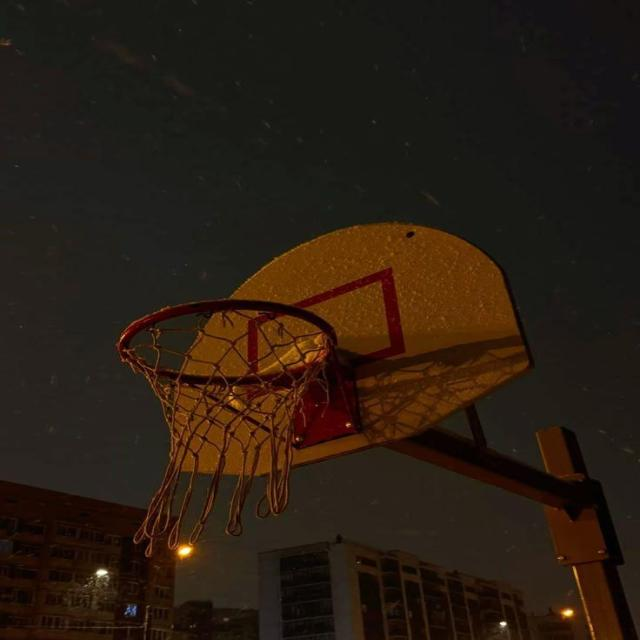hoop: (84, 305, 381, 523)
